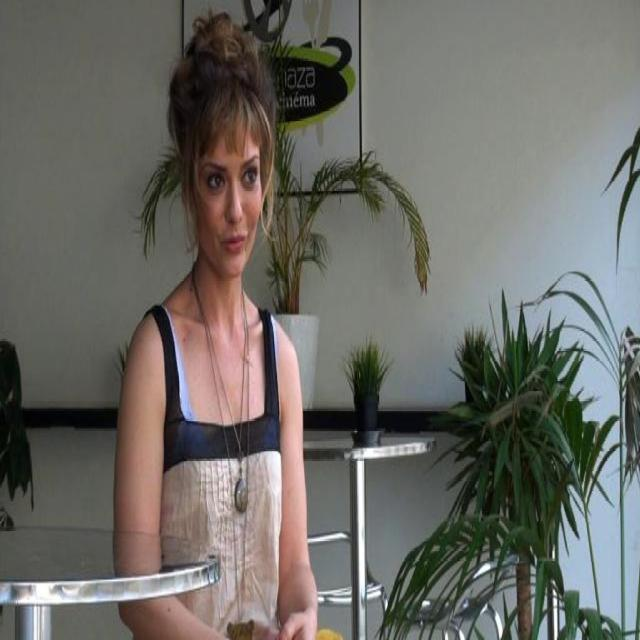Face: (184, 116, 271, 279)
